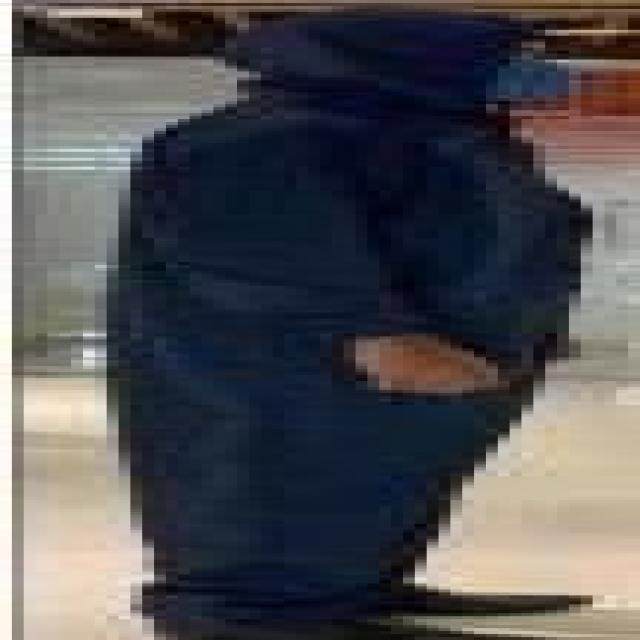Coverall: (60, 3, 617, 637)
Mask: (474, 54, 605, 107)
